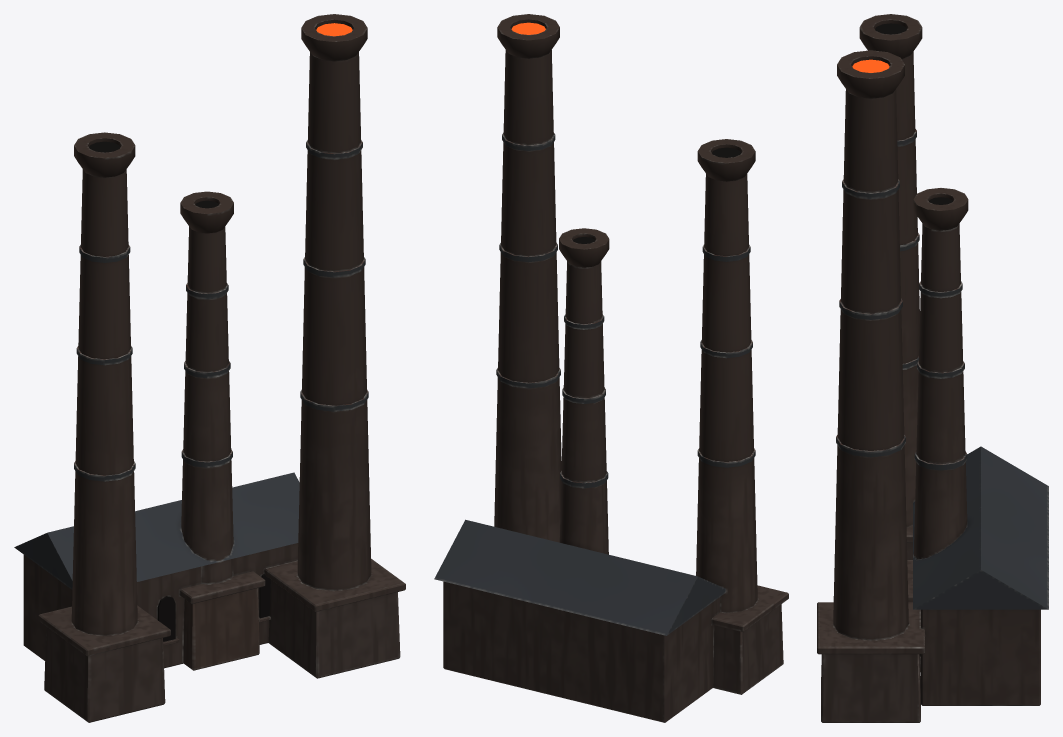
The model's file is foundry_skyline_stacks.glb.
3 renders of one model, left to right at view 1: azimuth 30°, elevation 25°; view 2: azimuth 150°, elevation 25°; view 3: azimuth 270°, elevation 25°, orthographic. The views are drawn at different scales.
Parts seen in each view (by area): view 1: foundry_skyline_stacks; view 2: foundry_skyline_stacks; view 3: foundry_skyline_stacks, foundry_skyline_stacks_glow.
Part boxes in pixels (bbox=[...]): foundry_skyline_stacks: bbox=[14, 14, 405, 722]; foundry_skyline_stacks: bbox=[434, 14, 788, 722]; foundry_skyline_stacks: bbox=[817, 14, 1048, 722]; foundry_skyline_stacks_glow: bbox=[852, 59, 889, 72].
Size of the model in its own units: 18.2 by 35.2 by 11.6.
2 materials, 1 textured.
